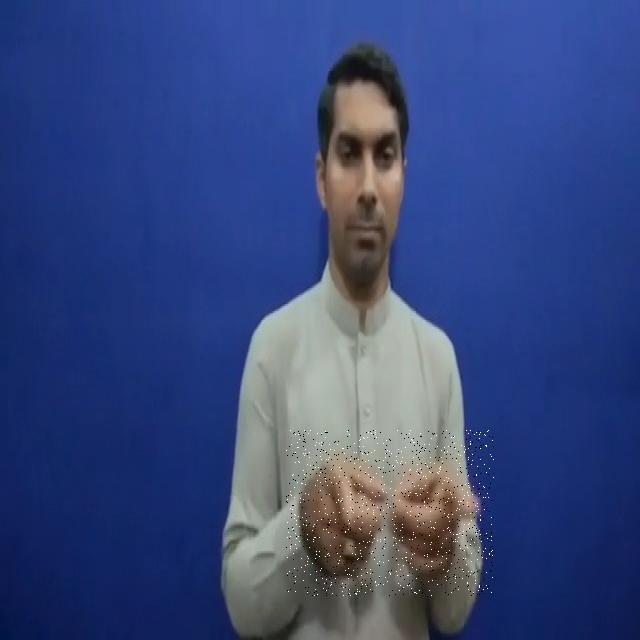sweet: (286, 430, 494, 596)
